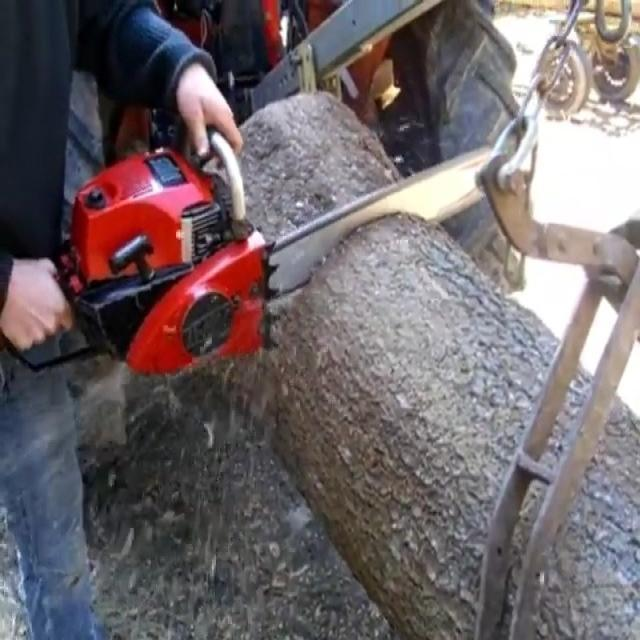Chainsaw: (8, 88, 496, 390)
